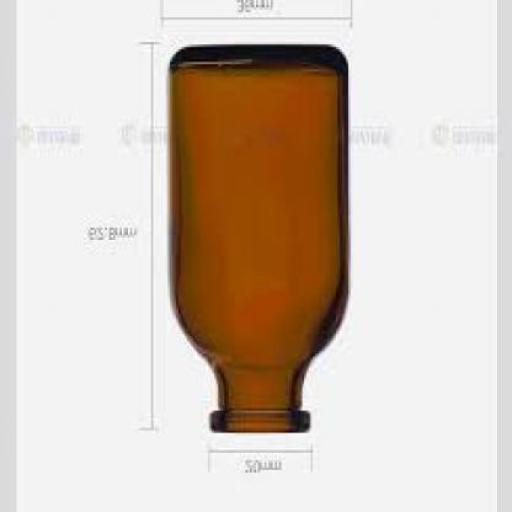glass: (164, 44, 346, 436)
